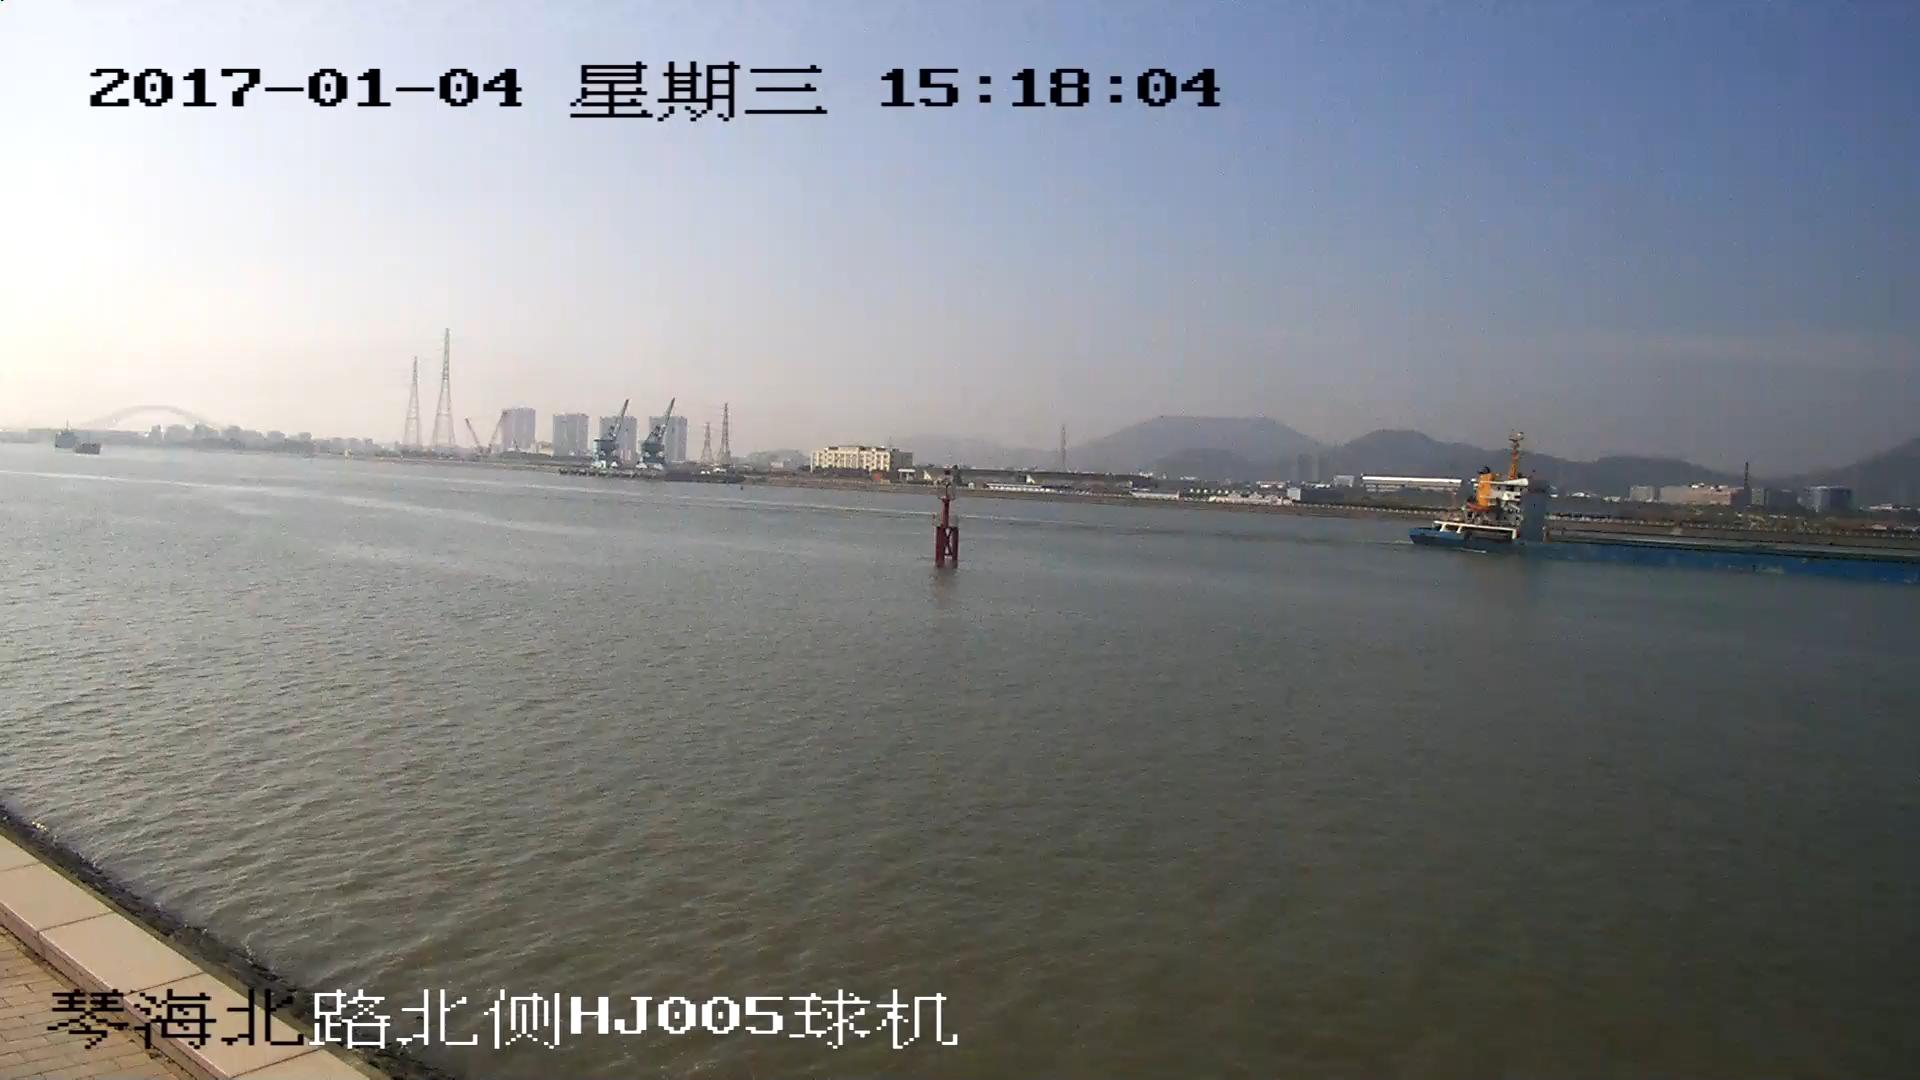general cargo ship: (1422, 442, 1920, 578)
